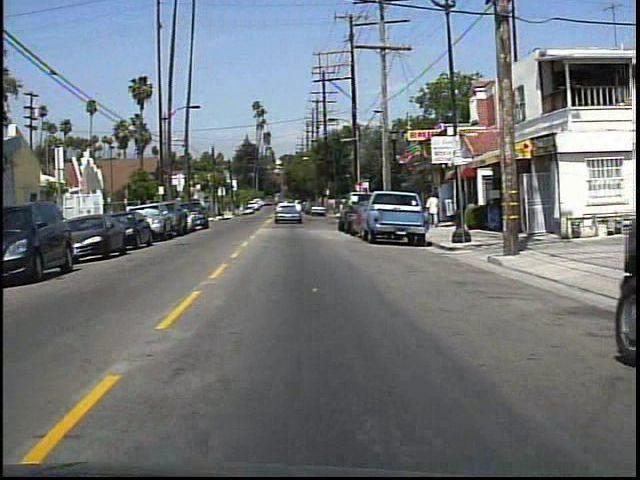person: (427, 190, 443, 230)
